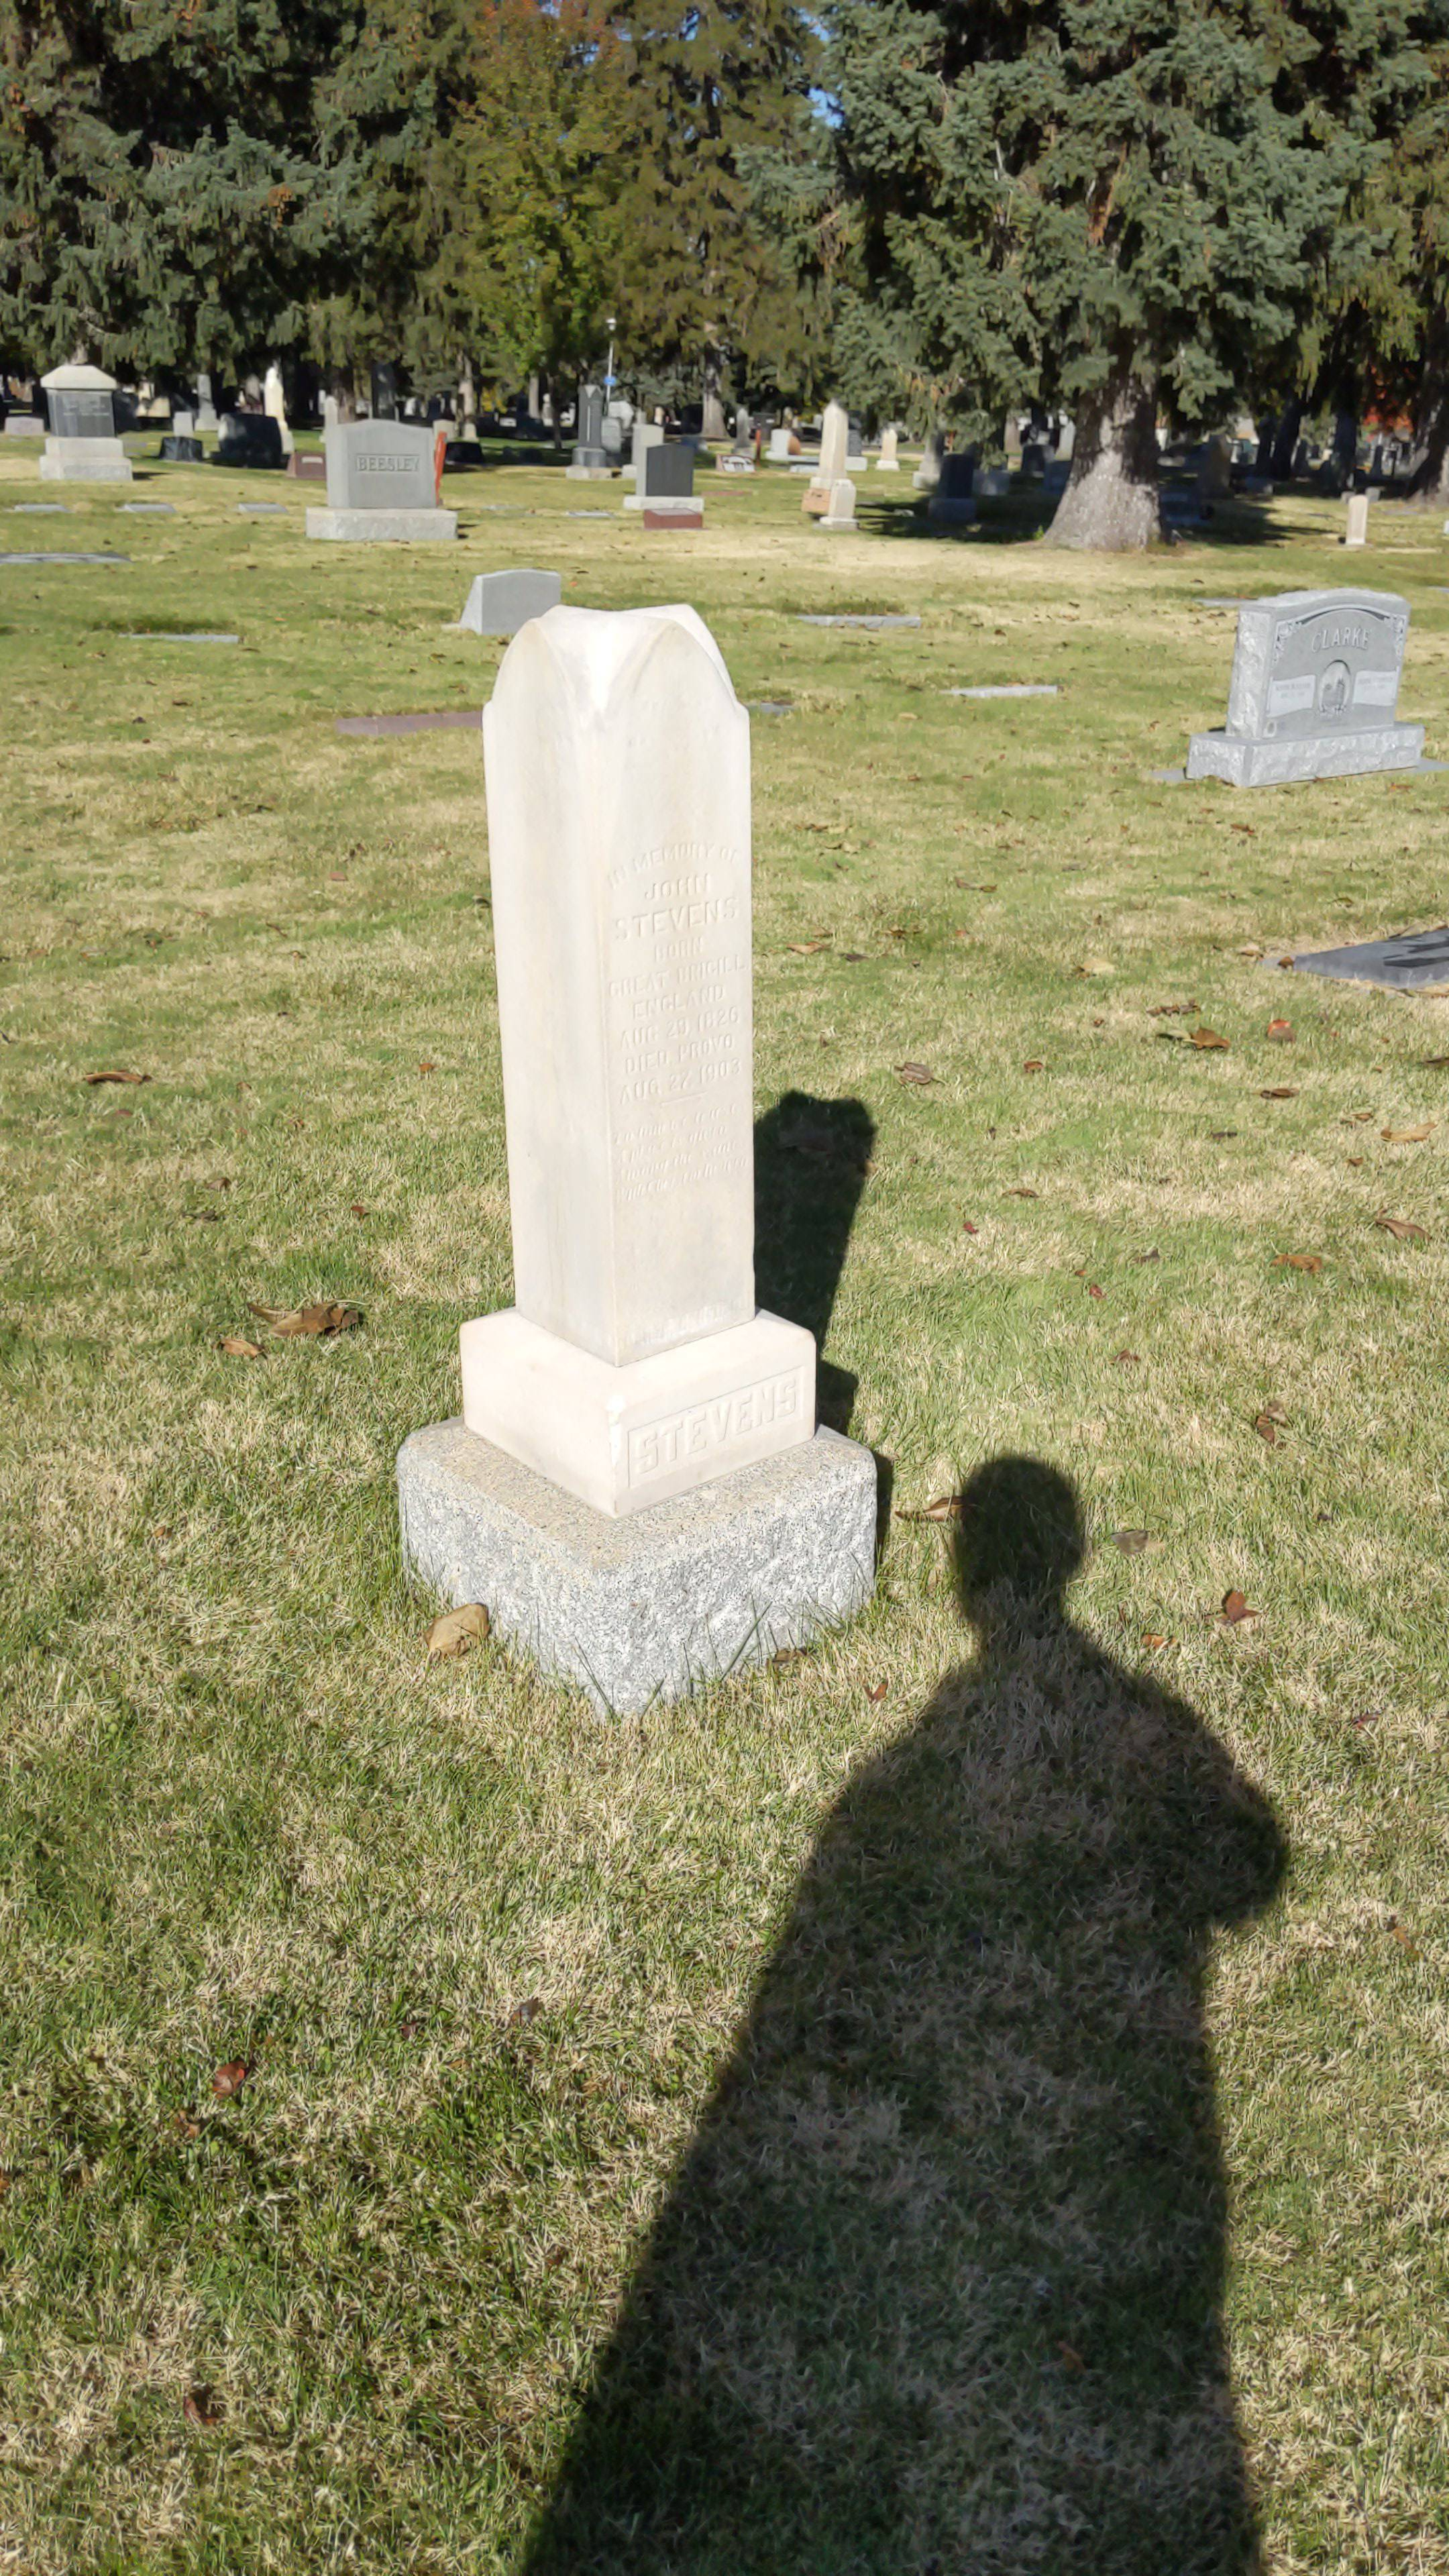obelisk: (458, 600, 816, 1506)
